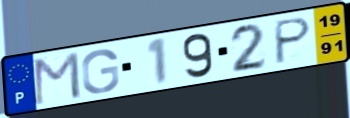1: (145, 36, 168, 88)
2: (230, 22, 267, 74)
9: (181, 31, 215, 79)
G: (79, 47, 121, 95)
M: (32, 49, 83, 107)
P: (273, 15, 314, 67)
